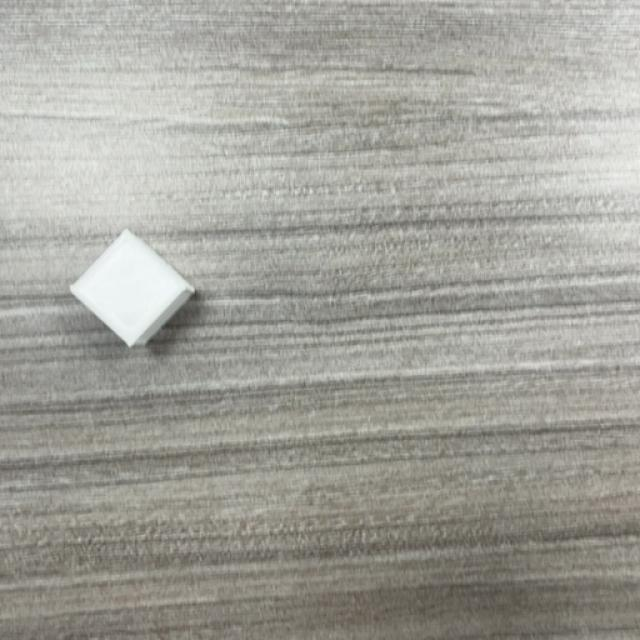Blanco: (69, 231, 196, 349)
